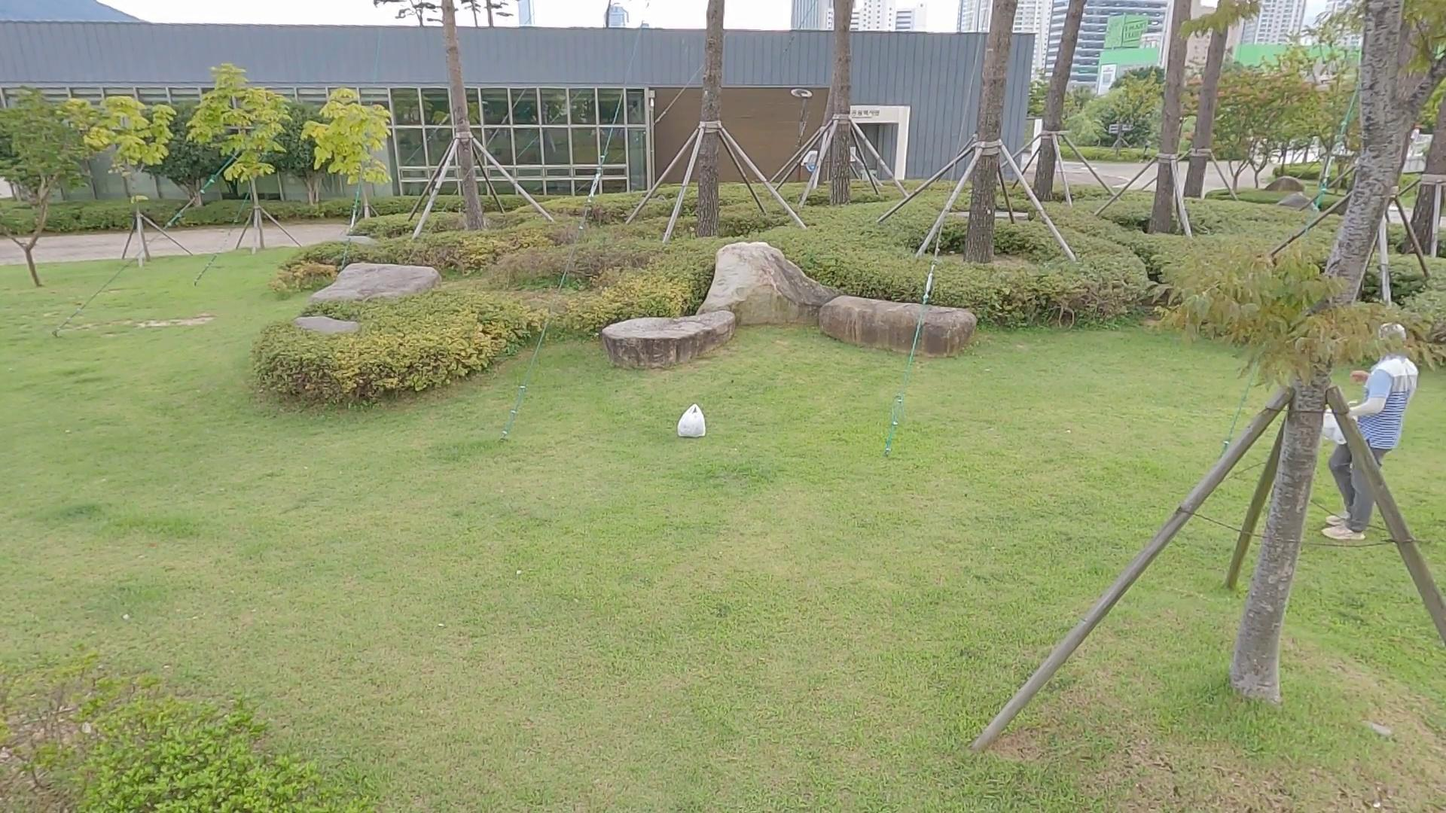person: (1318, 323, 1421, 541)
trash: (1317, 397, 1362, 445), (678, 402, 709, 441)
